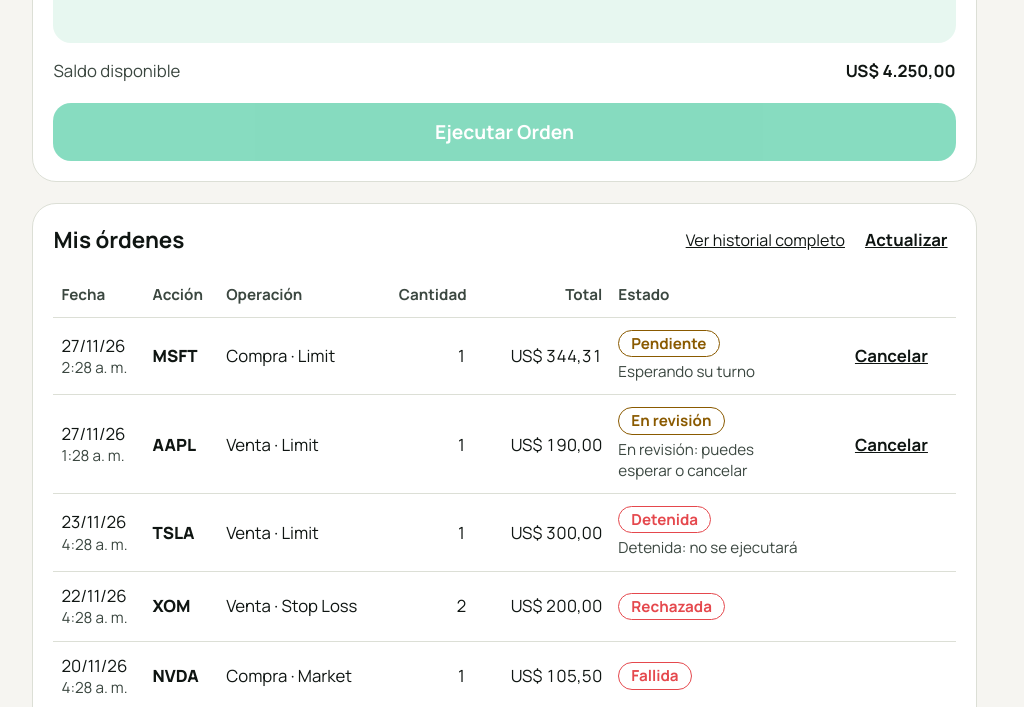
pantalla Operar (SCRUM-61) › si la orden ya no se puede cancelar, explica por qué y refresca la lista
(page scrolled)
Click the button with aria-label "cancelar orden de msft". click: click(891, 356)
box: [847,340,936,372]
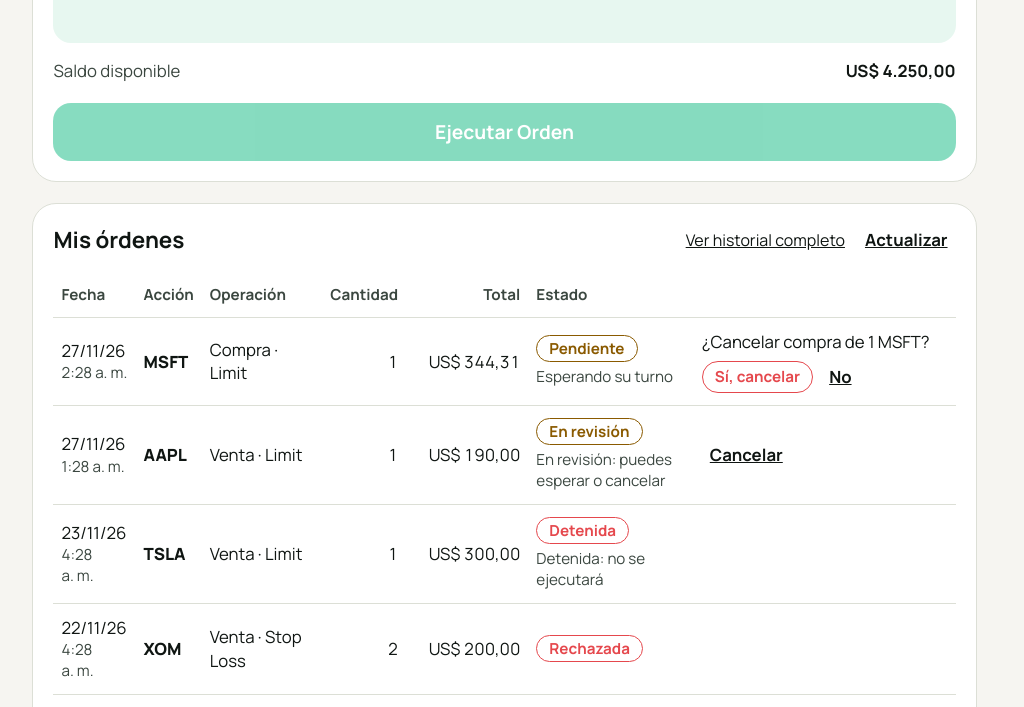
Click the button "Sí, cancelar". click: click(758, 377)
box: [702,361,813,393]
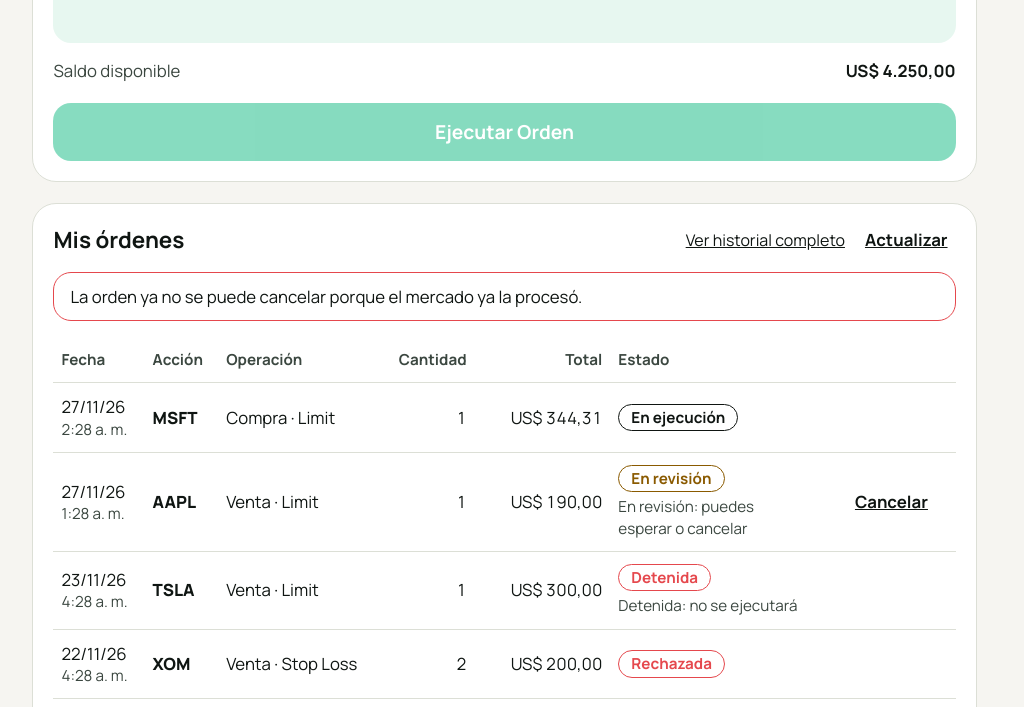
Result: the text "La orden ya no se puede cancelar porque el mercado ya la procesó." is shown at [54,272,956,321]
